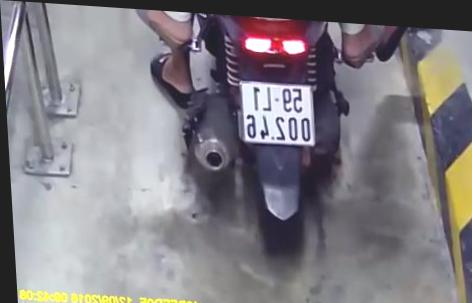License_Plate: (234, 76, 324, 152)
